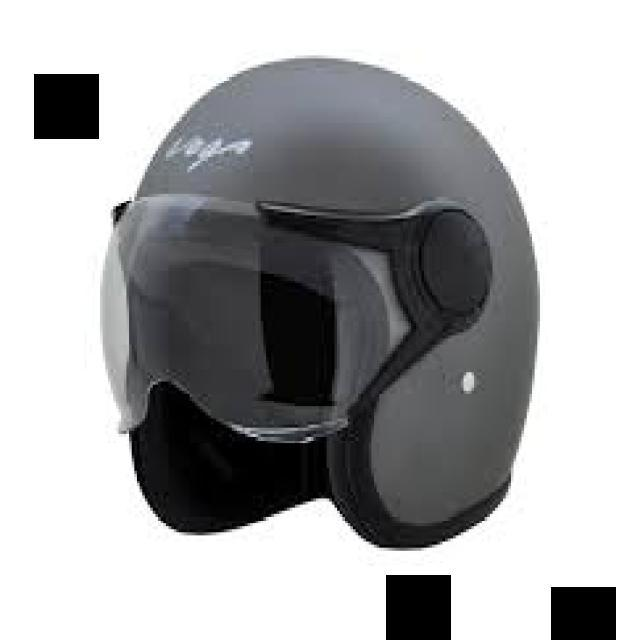helmet: (100, 49, 528, 554)
